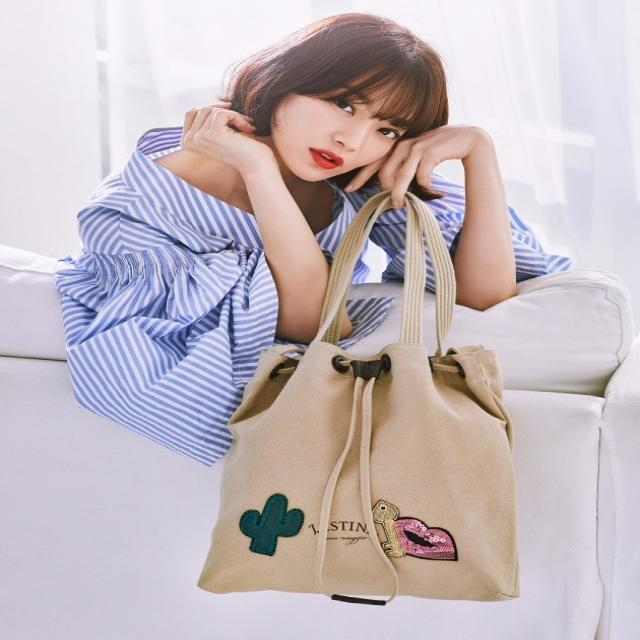ecobag: (190, 181, 552, 625)
